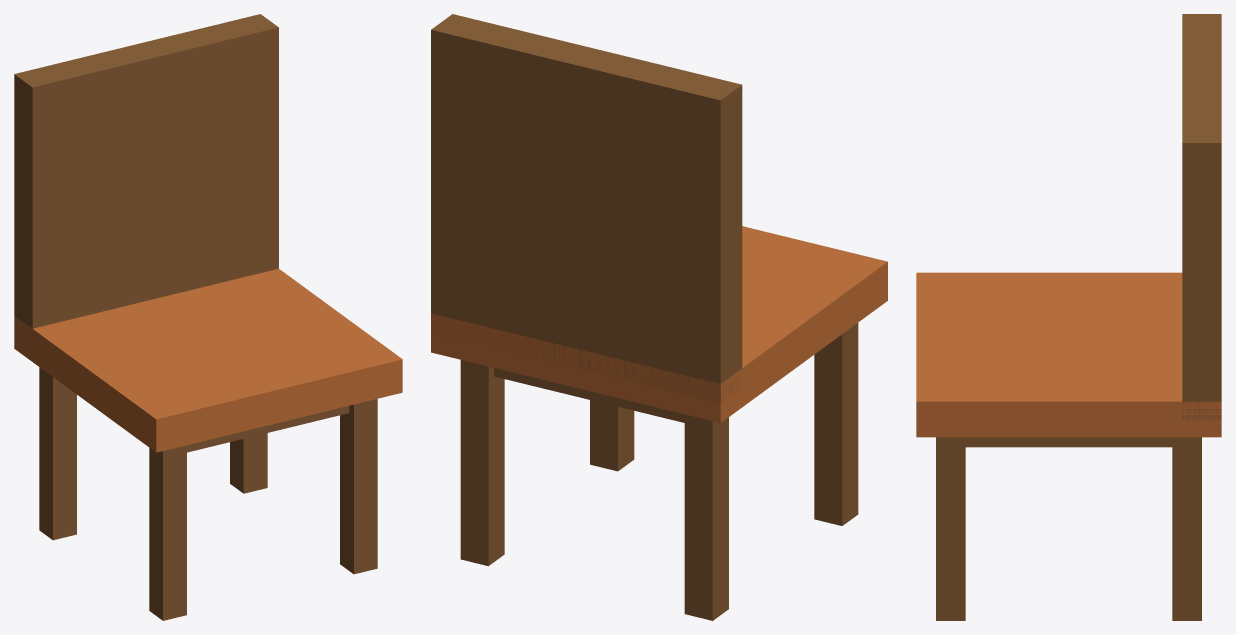
Rendered from chair.glb.
The picture shows the model from 3 angles, left to right: view 1: azimuth 30°, elevation 25°; view 2: azimuth 150°, elevation 25°; view 3: azimuth 270°, elevation 25°; orthographic projection. The views are drawn at different scales.
Bounding box in the file's own units: 0.62 × 1.09 × 0.62.
